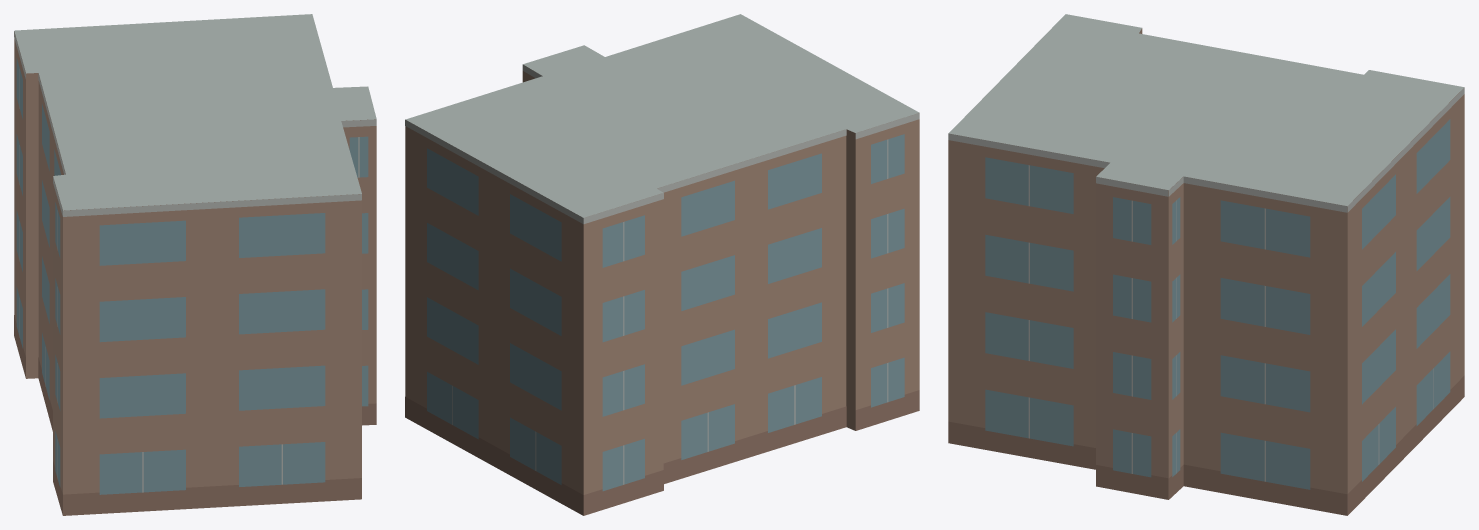
File: survey-upis-32520789.glb
3 renders of one model, left to right at view 1: azimuth 30°, elevation 25°; view 2: azimuth 150°, elevation 25°; view 3: azimuth 270°, elevation 25°, orthographic. The views are drawn at different scales.
Visible parts, largest first — view 1: survey-upis-32520789.tmp; view 2: survey-upis-32520789.tmp; view 3: survey-upis-32520789.tmp.
Boxes of the visible parts, bbox=[...] form: survey-upis-32520789.tmp: bbox=[14, 14, 376, 515]; survey-upis-32520789.tmp: bbox=[405, 14, 919, 515]; survey-upis-32520789.tmp: bbox=[948, 14, 1464, 515].
Size of the model in its own units: 15.18 by 11.4 by 17.23.
